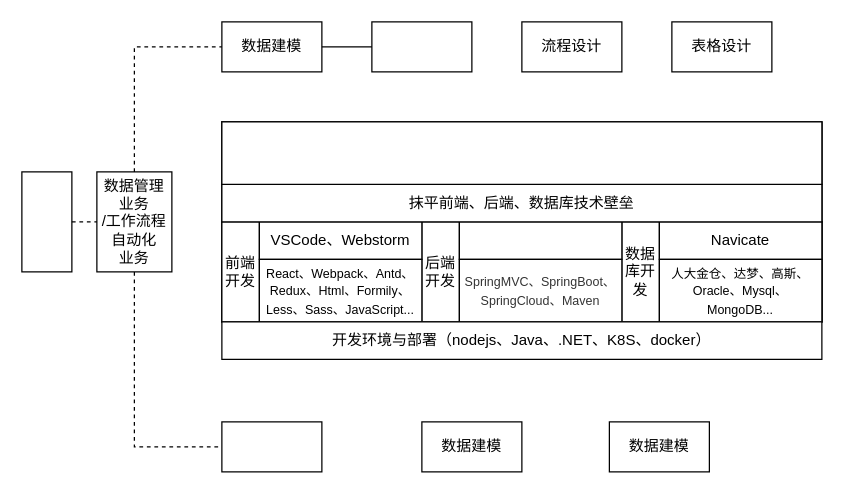
Image size: 844x494. Some labels were removed from this diagram. The shapes that lost their labels are listed below. From the top down, each one's centre as x and y in pixels, then its label:
pixel 421 46: 表单设计
pixel 46 221: 项 目
pixel 540 240: Idea、visual studio、eclipse
